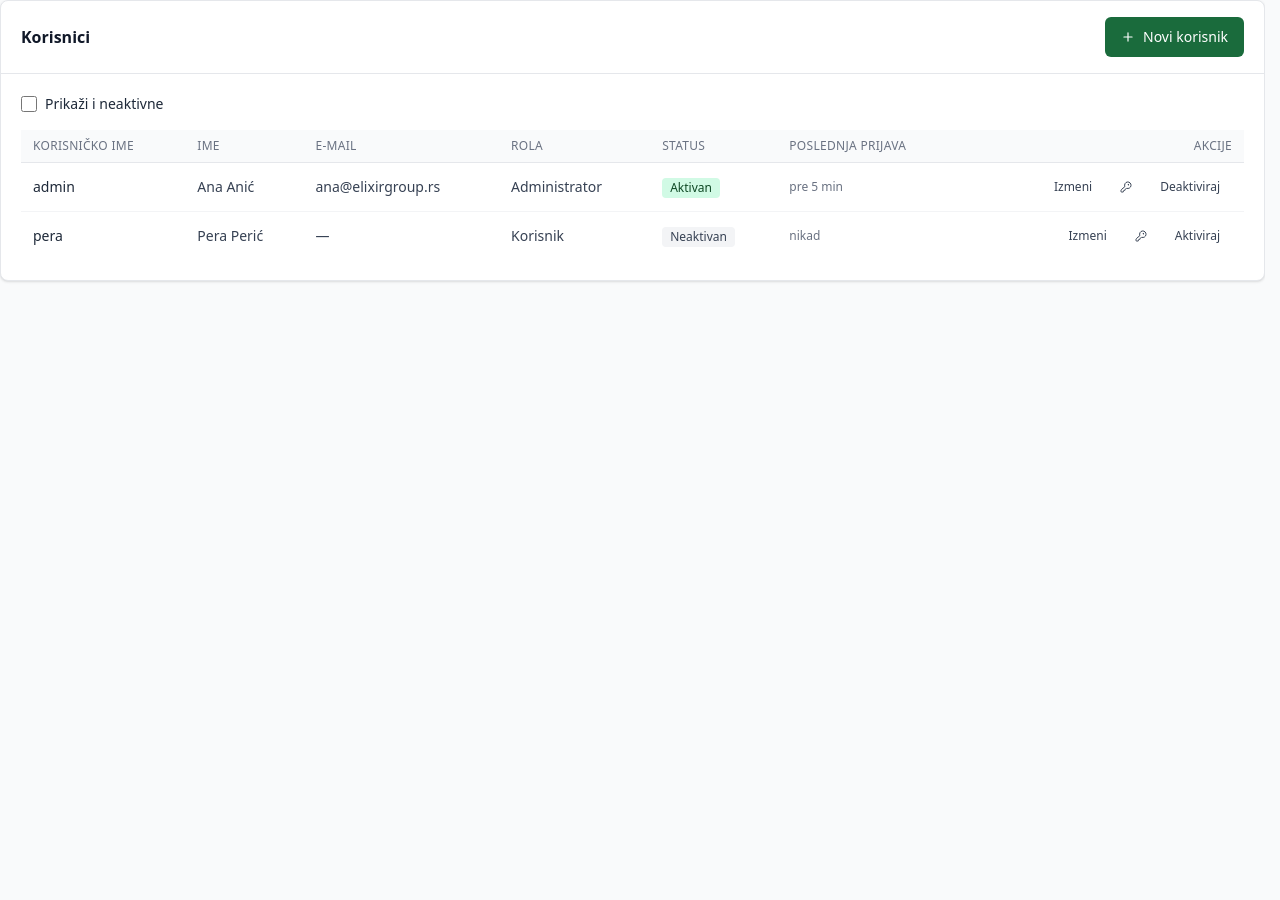
Scenario: KorisniciPage › 422 iz guarda ostaje u formi kao poruka
Expected: the text "Ana Anić" is shown, [185,162,303,212]
Click the button "Izmeni" in the row of "Ana Anić": {"x": 1073, "y": 187} [1042,171,1104,203]
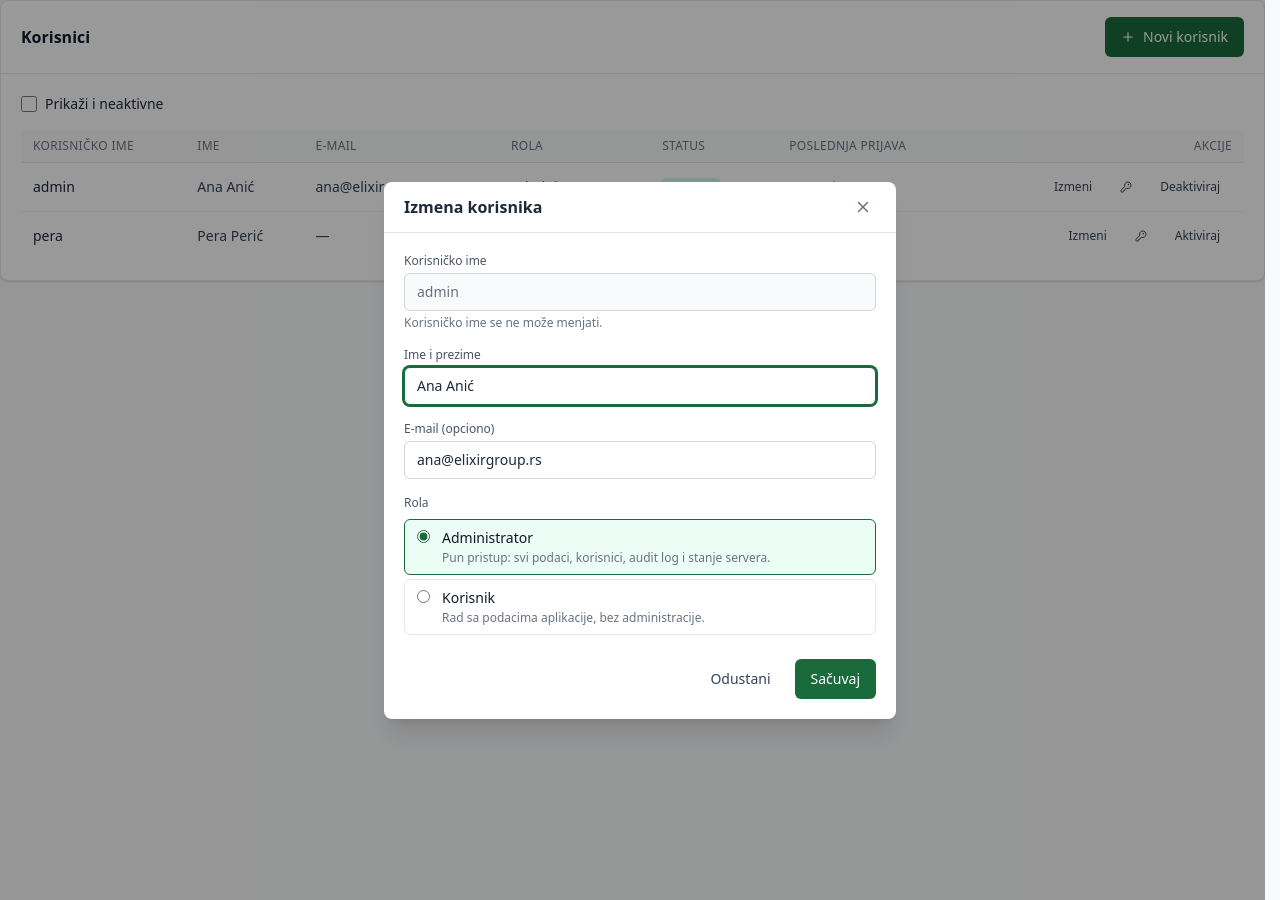
Click the radio button labelled "Korisnik Rad sa podacima aplikacije, bez administracije.": {"x": 424, "y": 596} [417,590,430,602]
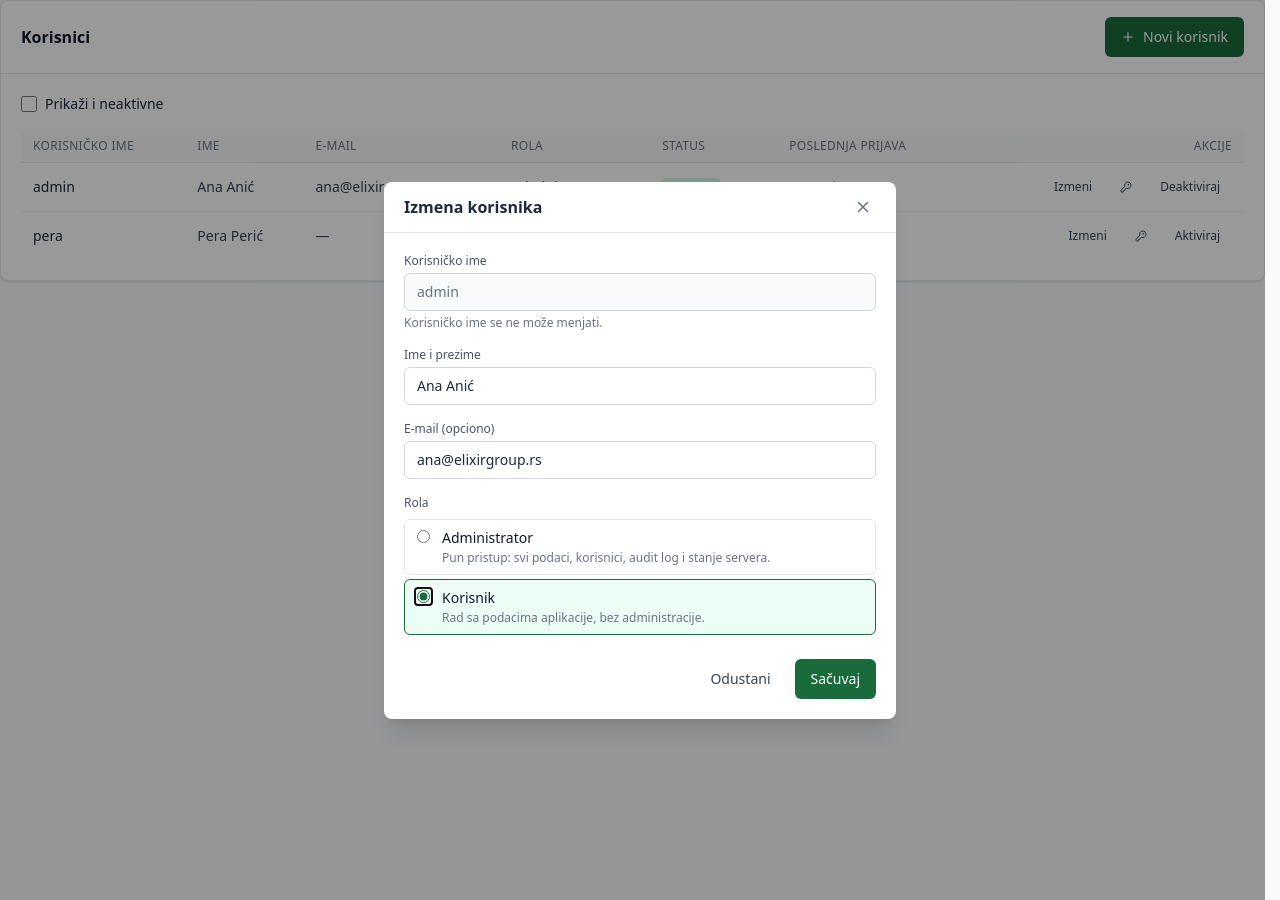
Click the button "Sačuvaj": {"x": 835, "y": 678} [794,658,876,698]
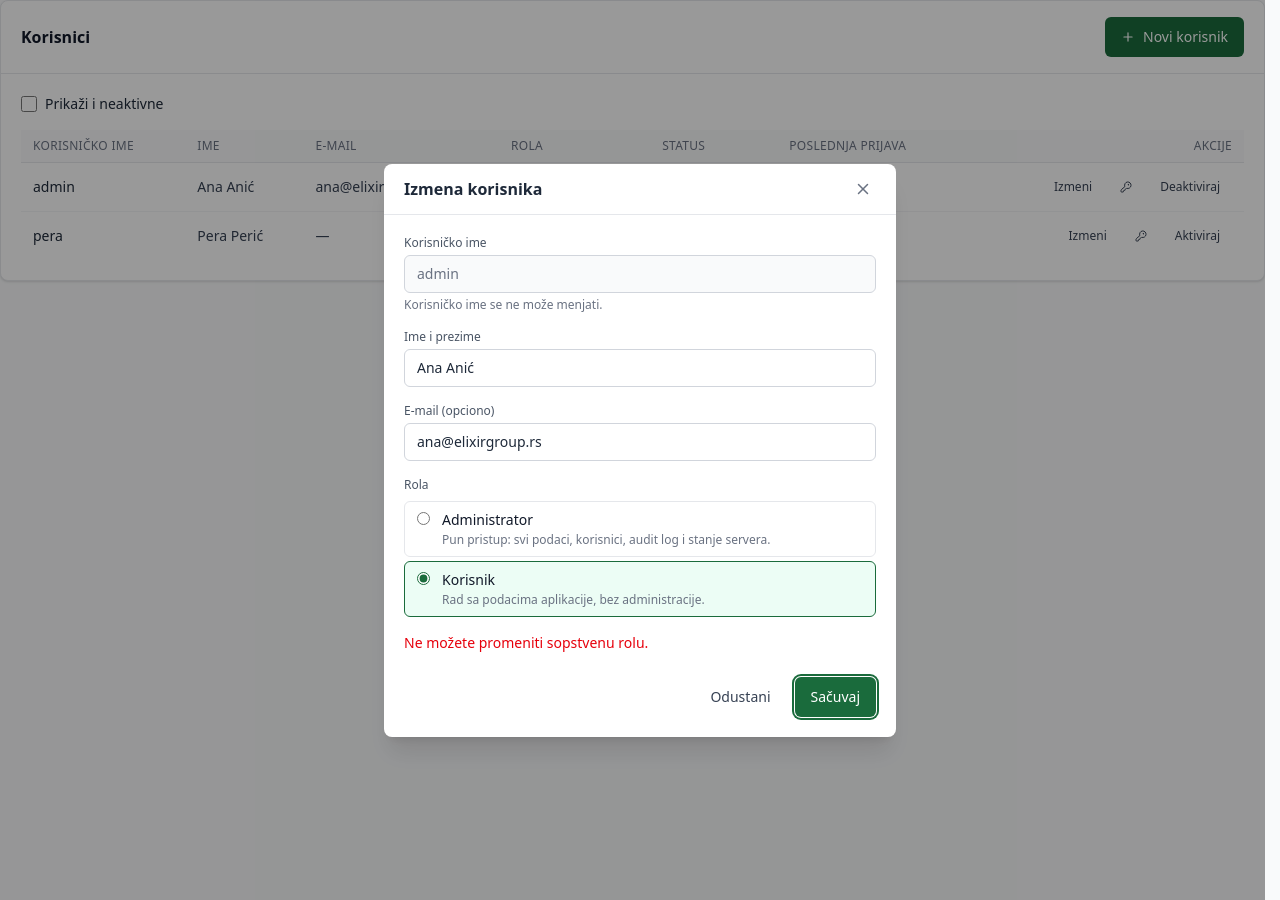
Now the text "Ne možete promeniti sopstvenu rolu." is shown, box [404,632,648,652]
